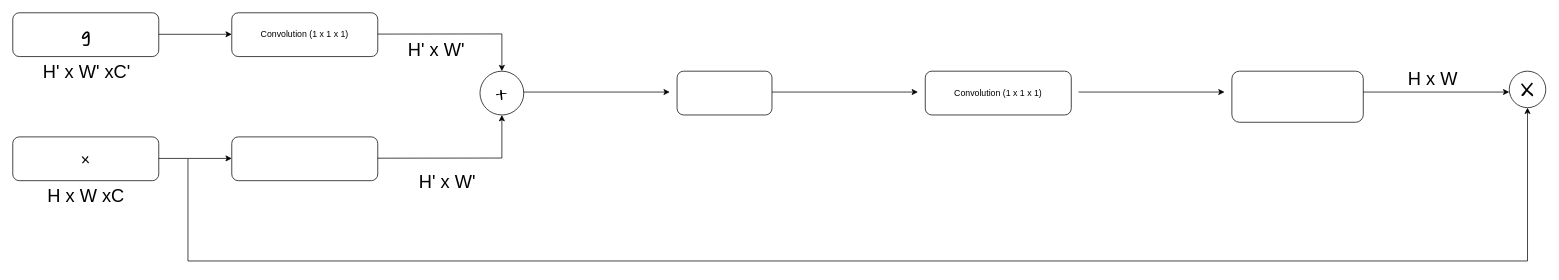
The diagram is 1559 pixels wide and 280 high, and some of its shapes have lost their labels. Here are the shapes that lost their labels. From the top down, the centre of each, then its label:
At point (724, 92): "ReLU".
At point (1297, 96): "UpSampling(Augmentation de la définition par 4)".
At point (304, 158): "Convolution (1 x 1 x 1) stride = 2".
